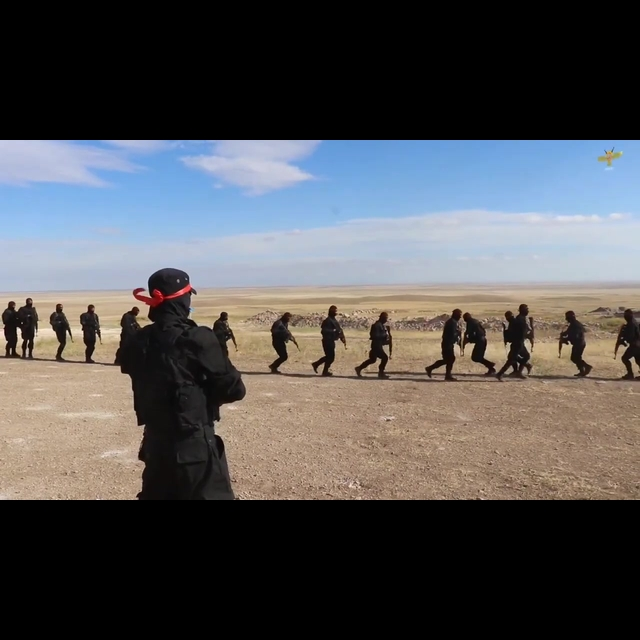AK47: (553, 327, 572, 361), (384, 325, 397, 362), (287, 326, 304, 354)
